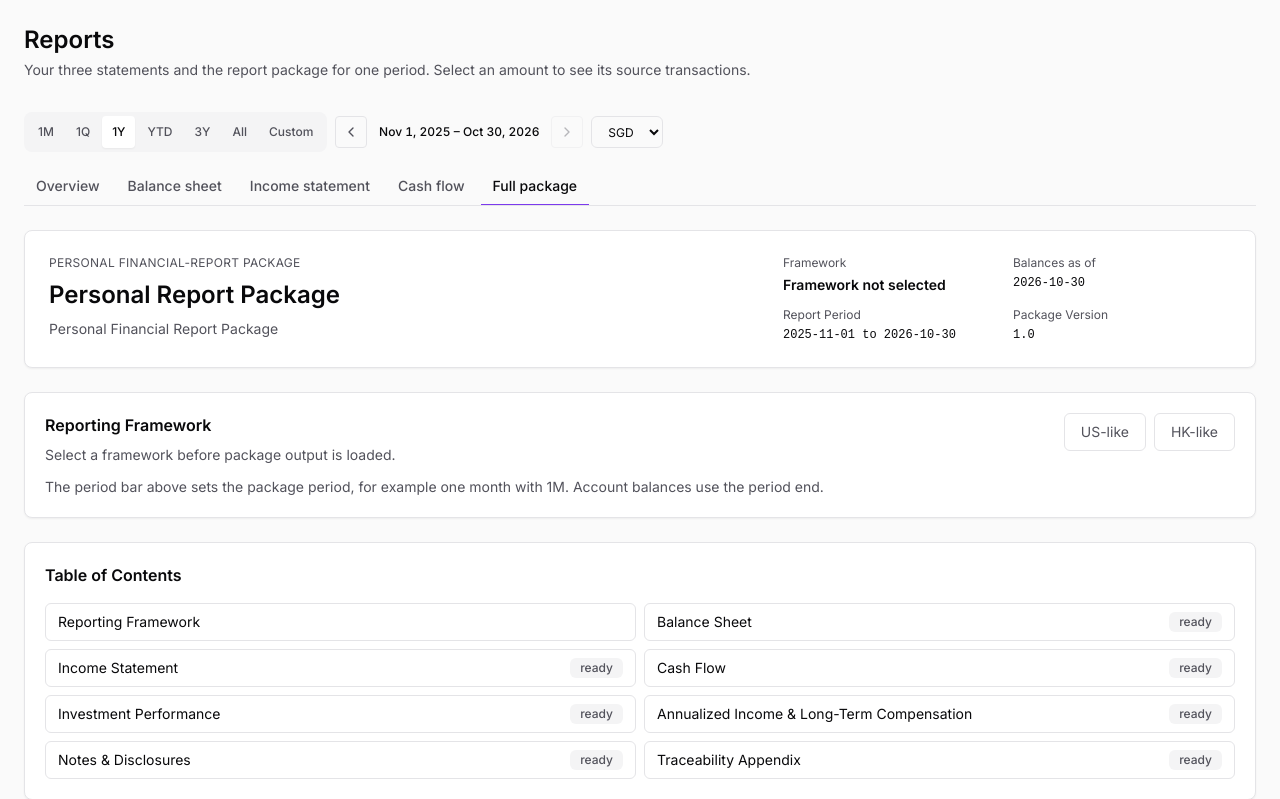
Test: PersonalReportPackagePage › AC20.6.1 keeps framework package sections pinned to the selected report date
Click the button "US-like".
click(1105, 432)  # box [1064,413,1146,451]
(page scrolled)
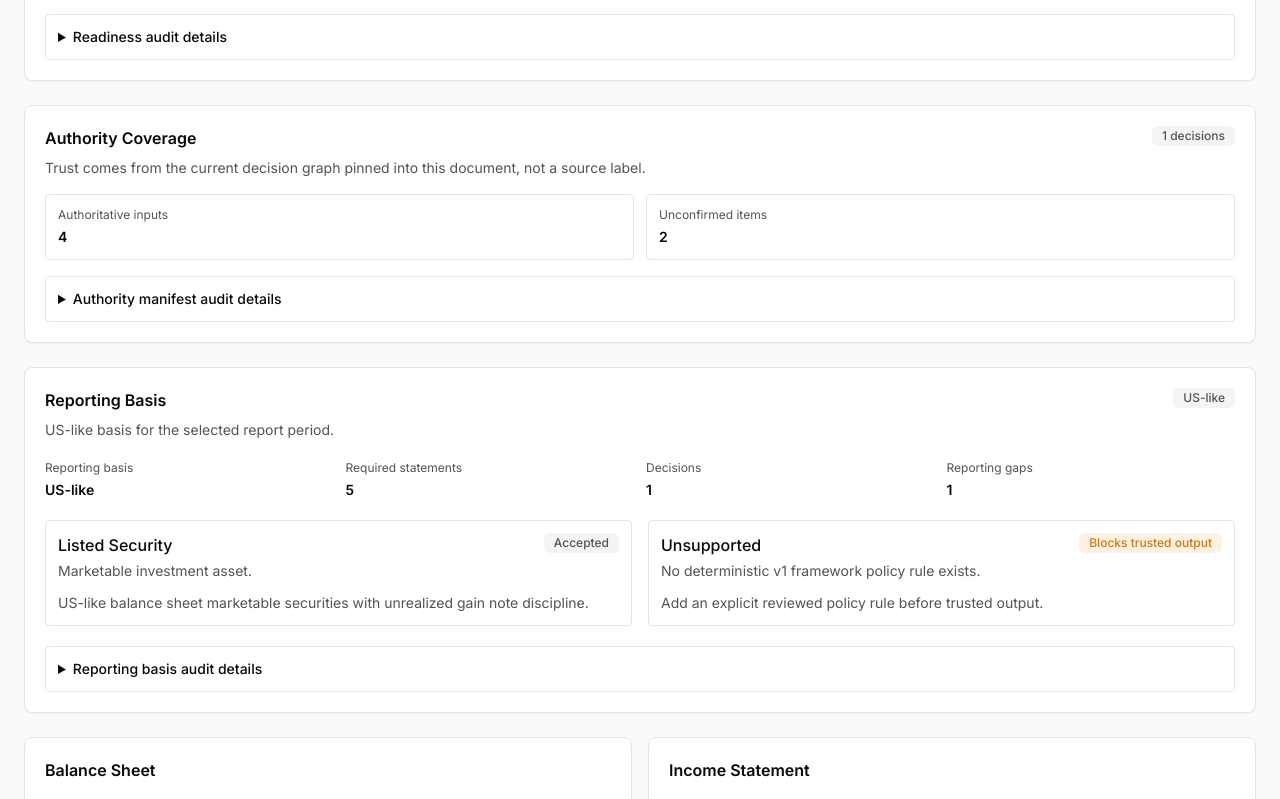
Result: the heading "Reporting Basis" is shown at [45,390,166,410]
